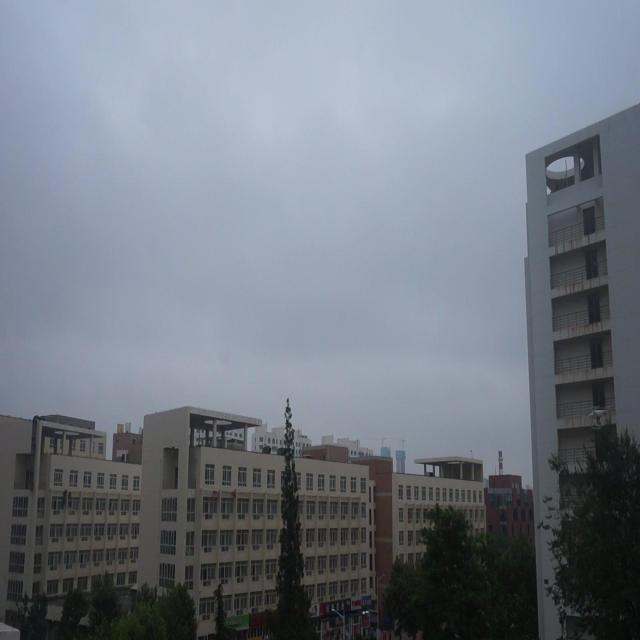drone: (582, 399, 612, 430)
